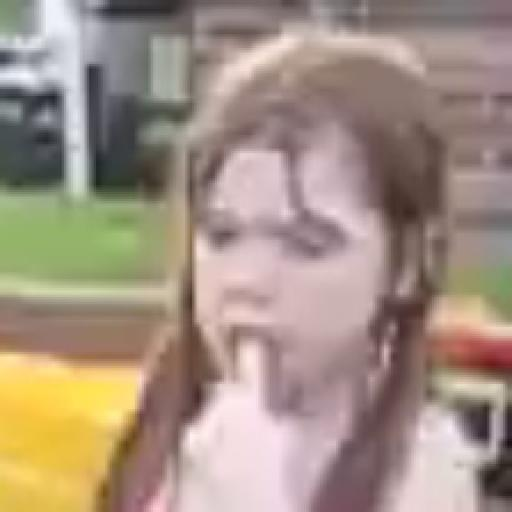Autism: (148, 51, 431, 441)
